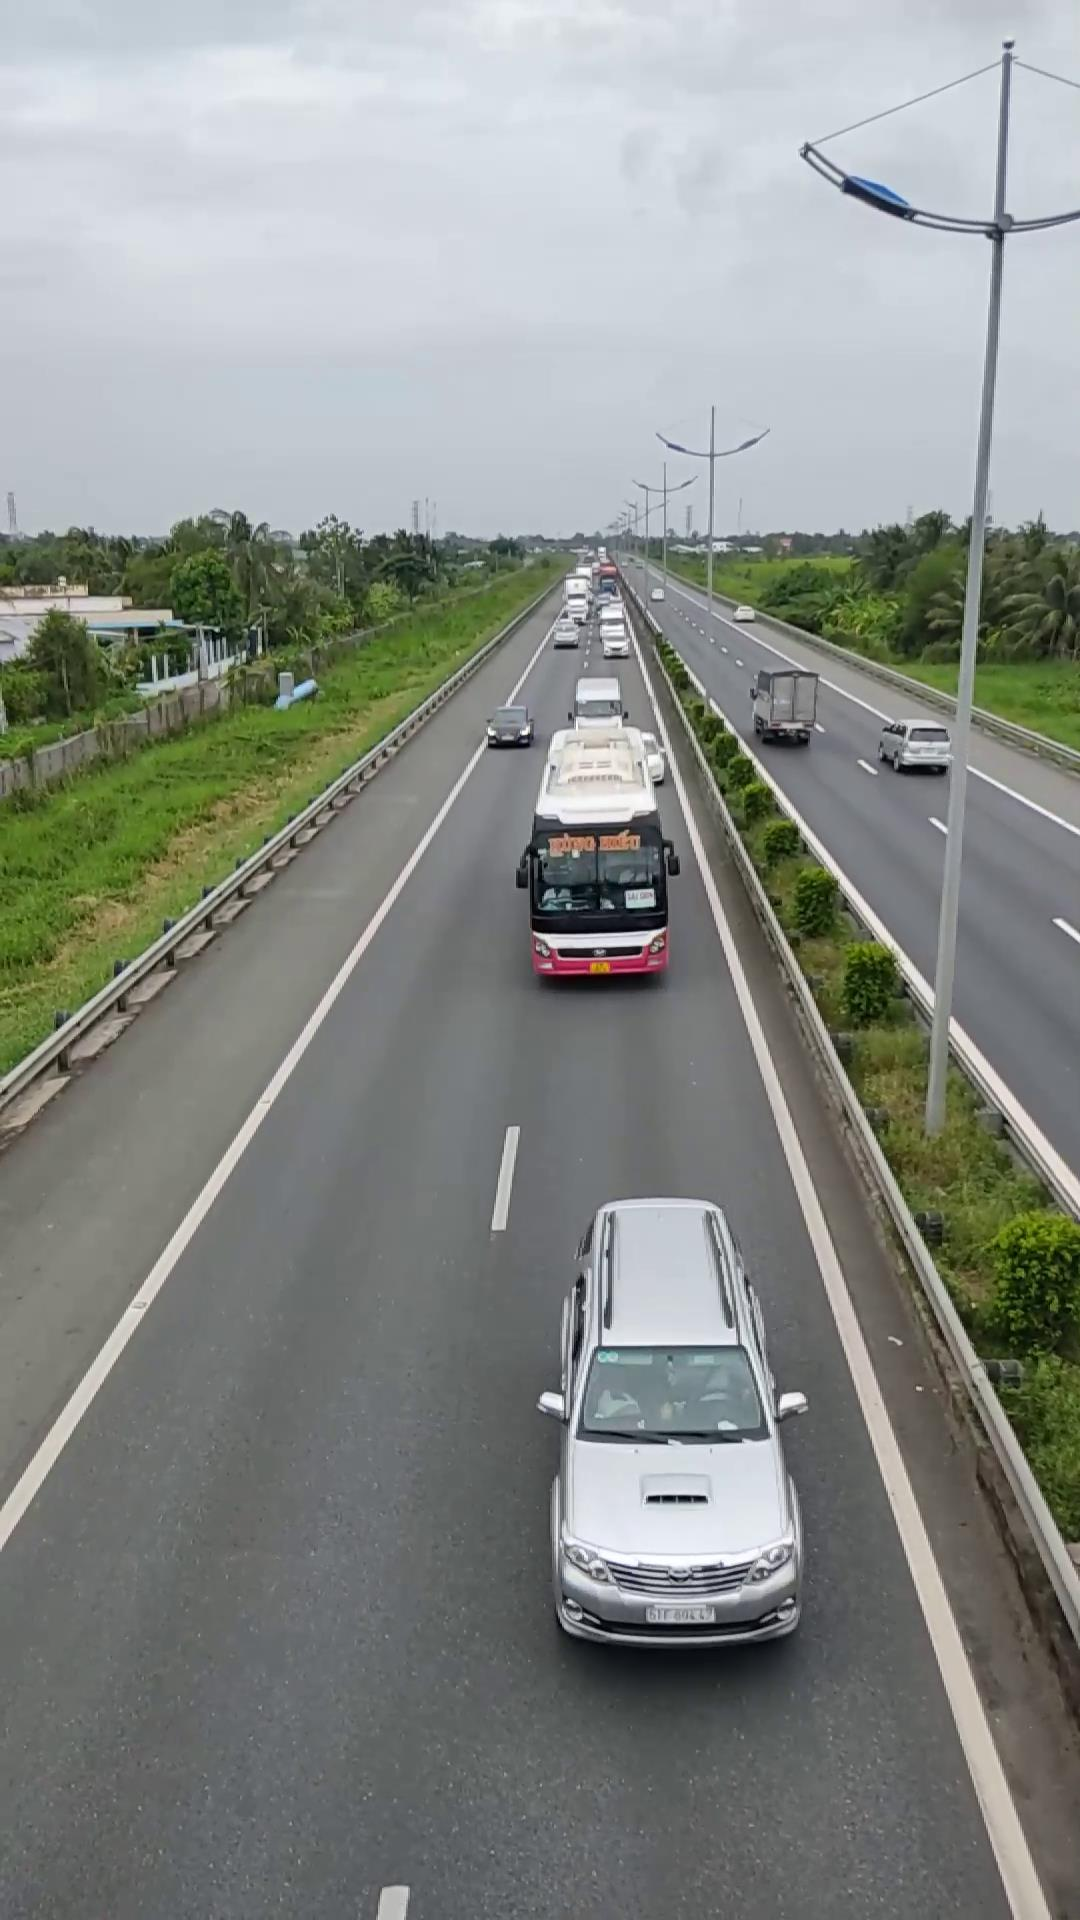bus: (516, 723, 676, 982)
car: (541, 1192, 807, 1646)
truck: (749, 662, 822, 742)
